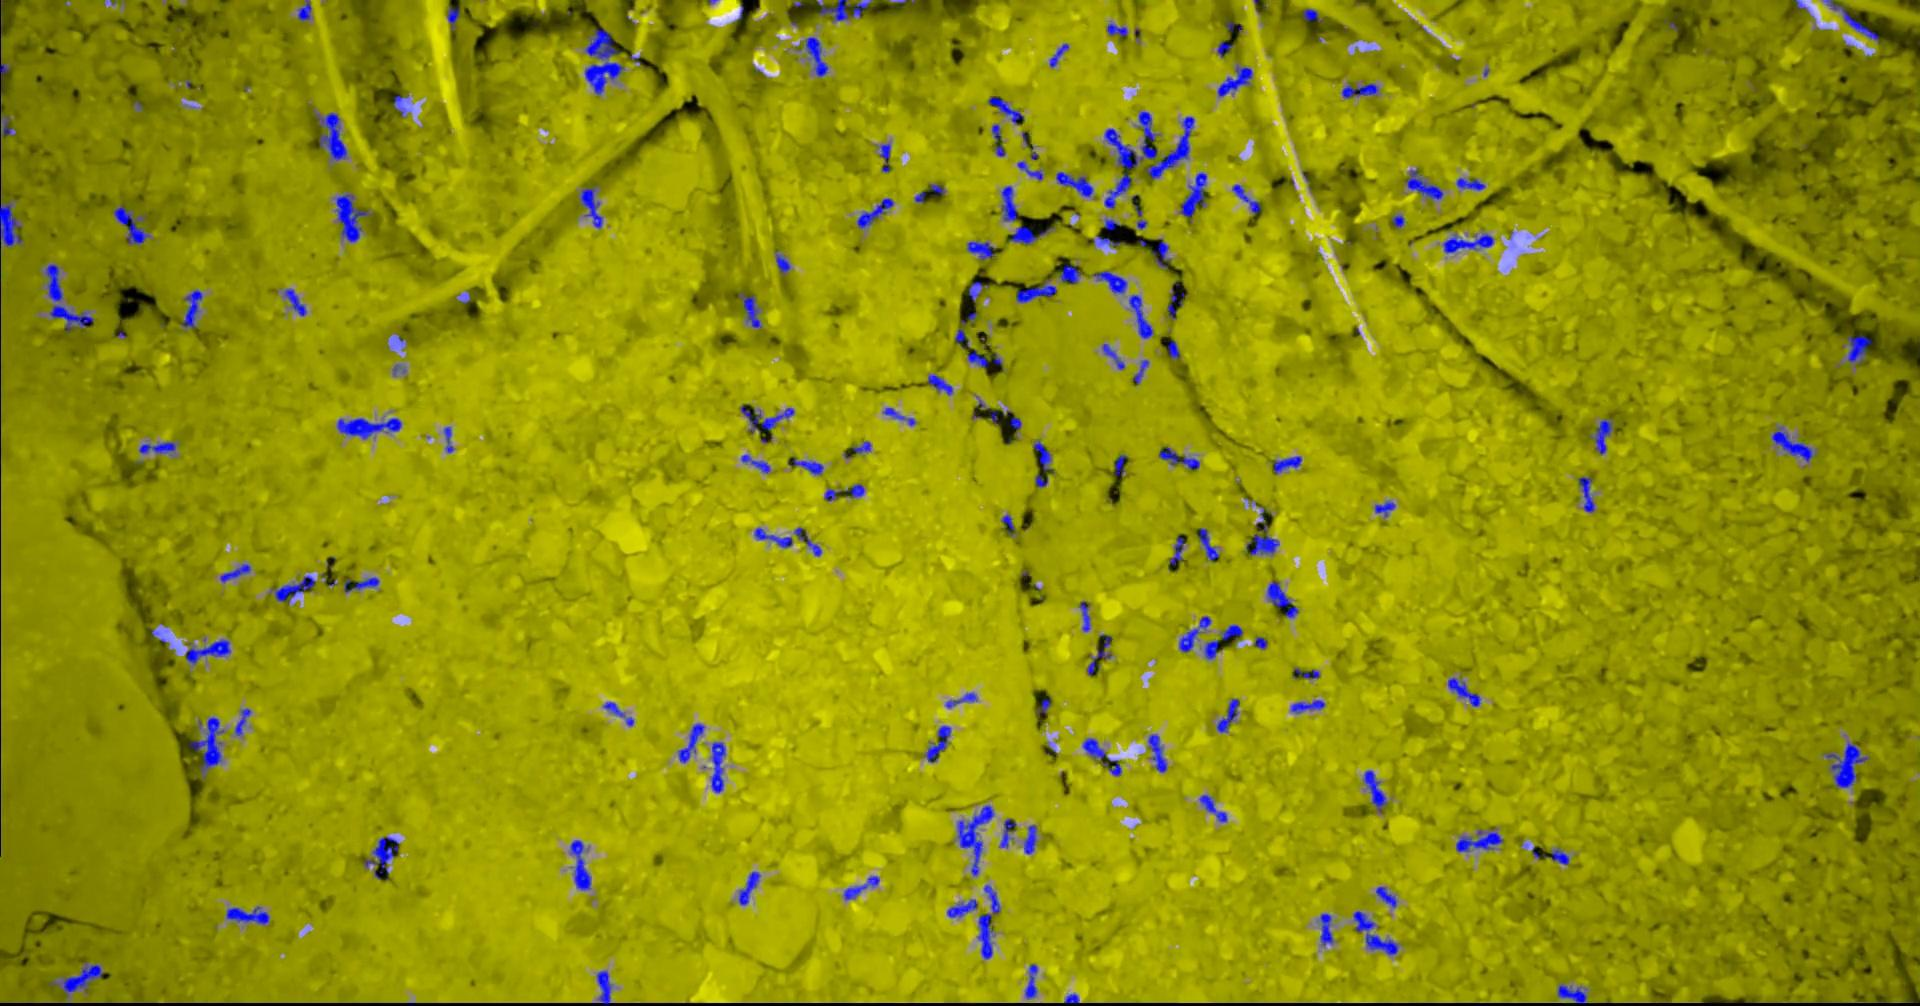ant: (44, 263, 93, 332), (1144, 116, 1194, 178), (957, 805, 994, 875), (1823, 0, 1878, 41), (188, 716, 223, 774), (1352, 909, 1397, 954), (1825, 742, 1868, 788), (977, 884, 999, 959), (1244, 506, 1279, 554), (335, 193, 368, 243), (312, 112, 345, 159), (740, 404, 792, 433), (1771, 426, 1812, 462), (1082, 738, 1121, 775), (363, 836, 397, 878), (113, 205, 149, 244), (337, 417, 401, 438), (61, 964, 102, 995), (1180, 171, 1206, 216), (1266, 580, 1298, 617), (1404, 169, 1443, 199), (817, 0, 872, 20), (1217, 65, 1252, 97), (1178, 616, 1210, 652), (185, 639, 230, 664), (856, 197, 893, 227), (1128, 293, 1152, 338), (1455, 829, 1503, 851), (1443, 232, 1493, 253), (570, 840, 590, 890), (987, 97, 1023, 124), (0, 199, 22, 246), (1015, 278, 1057, 302), (274, 575, 314, 601), (1086, 635, 1111, 674), (678, 723, 703, 762), (1448, 677, 1481, 706), (804, 36, 827, 77), (579, 185, 602, 227), (1363, 770, 1385, 812), (924, 725, 950, 762), (1158, 446, 1199, 469), (1055, 171, 1093, 196), (1230, 184, 1260, 213), (792, 527, 822, 555), (843, 876, 879, 899), (180, 290, 202, 326), (1008, 226, 1053, 244), (1092, 271, 1126, 293), (754, 527, 792, 547), (225, 906, 268, 923), (1217, 699, 1239, 732), (738, 292, 759, 326), (711, 741, 725, 793), (1147, 734, 1166, 772), (1197, 527, 1219, 560), (738, 871, 759, 904), (1199, 794, 1225, 821), (824, 483, 863, 500), (1591, 419, 1611, 453), (1001, 185, 1020, 221), (1848, 335, 1872, 363), (1531, 846, 1568, 864), (883, 406, 916, 426), (596, 970, 613, 1005), (218, 563, 250, 582), (1557, 984, 1586, 1005), (1032, 439, 1051, 470), (283, 288, 305, 315), (1102, 343, 1124, 370), (740, 453, 770, 473), (1341, 83, 1377, 98), (787, 459, 823, 474), (1578, 476, 1594, 512), (343, 577, 378, 592), (946, 899, 977, 917), (1152, 238, 1170, 267), (966, 241, 996, 259), (927, 373, 952, 394), (1167, 287, 1183, 318), (1023, 963, 1037, 998), (945, 692, 977, 708), (1272, 456, 1302, 473), (1002, 410, 1020, 437), (138, 441, 175, 453), (234, 708, 250, 735), (1017, 161, 1043, 179), (999, 818, 1015, 847), (990, 124, 1004, 156), (1319, 913, 1333, 945), (1049, 43, 1068, 66), (1290, 700, 1324, 713), (1203, 639, 1223, 659), (1375, 887, 1396, 907), (968, 279, 987, 301), (1457, 177, 1484, 191), (1170, 536, 1183, 564), (1059, 264, 1079, 283), (1092, 235, 1125, 246), (1023, 824, 1036, 854), (0, 111, 15, 135), (1133, 359, 1148, 384), (968, 349, 988, 367), (1222, 624, 1242, 640), (775, 250, 790, 272), (1374, 500, 1396, 516), (602, 701, 623, 716), (879, 144, 890, 171), (1291, 667, 1319, 678), (1079, 601, 1090, 631), (954, 328, 969, 347), (1112, 453, 1125, 476), (297, 0, 311, 20), (1001, 514, 1015, 535), (447, 6, 458, 30), (1134, 205, 1145, 229), (1106, 23, 1128, 36), (1217, 41, 1233, 57), (443, 426, 453, 452), (1302, 8, 1321, 22), (392, 94, 404, 116), (852, 441, 870, 453), (1167, 340, 1178, 358), (1034, 473, 1048, 486), (1036, 699, 1050, 713), (1103, 218, 1120, 230), (1390, 215, 1404, 227), (1063, 993, 1078, 1005), (1255, 636, 1267, 648)
